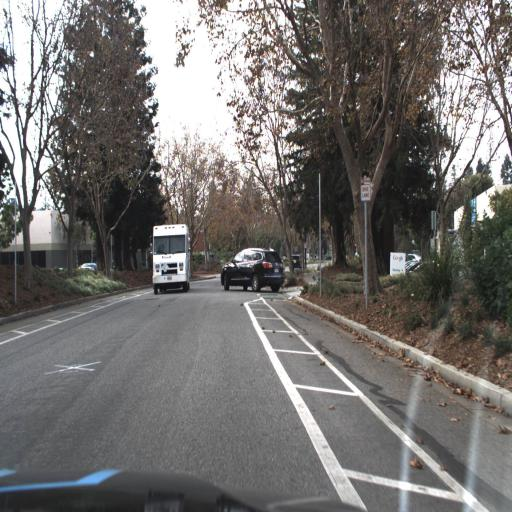car: (217, 246, 287, 292), (290, 253, 301, 269), (306, 252, 319, 262), (85, 261, 99, 268)
truck: (151, 224, 191, 299)
